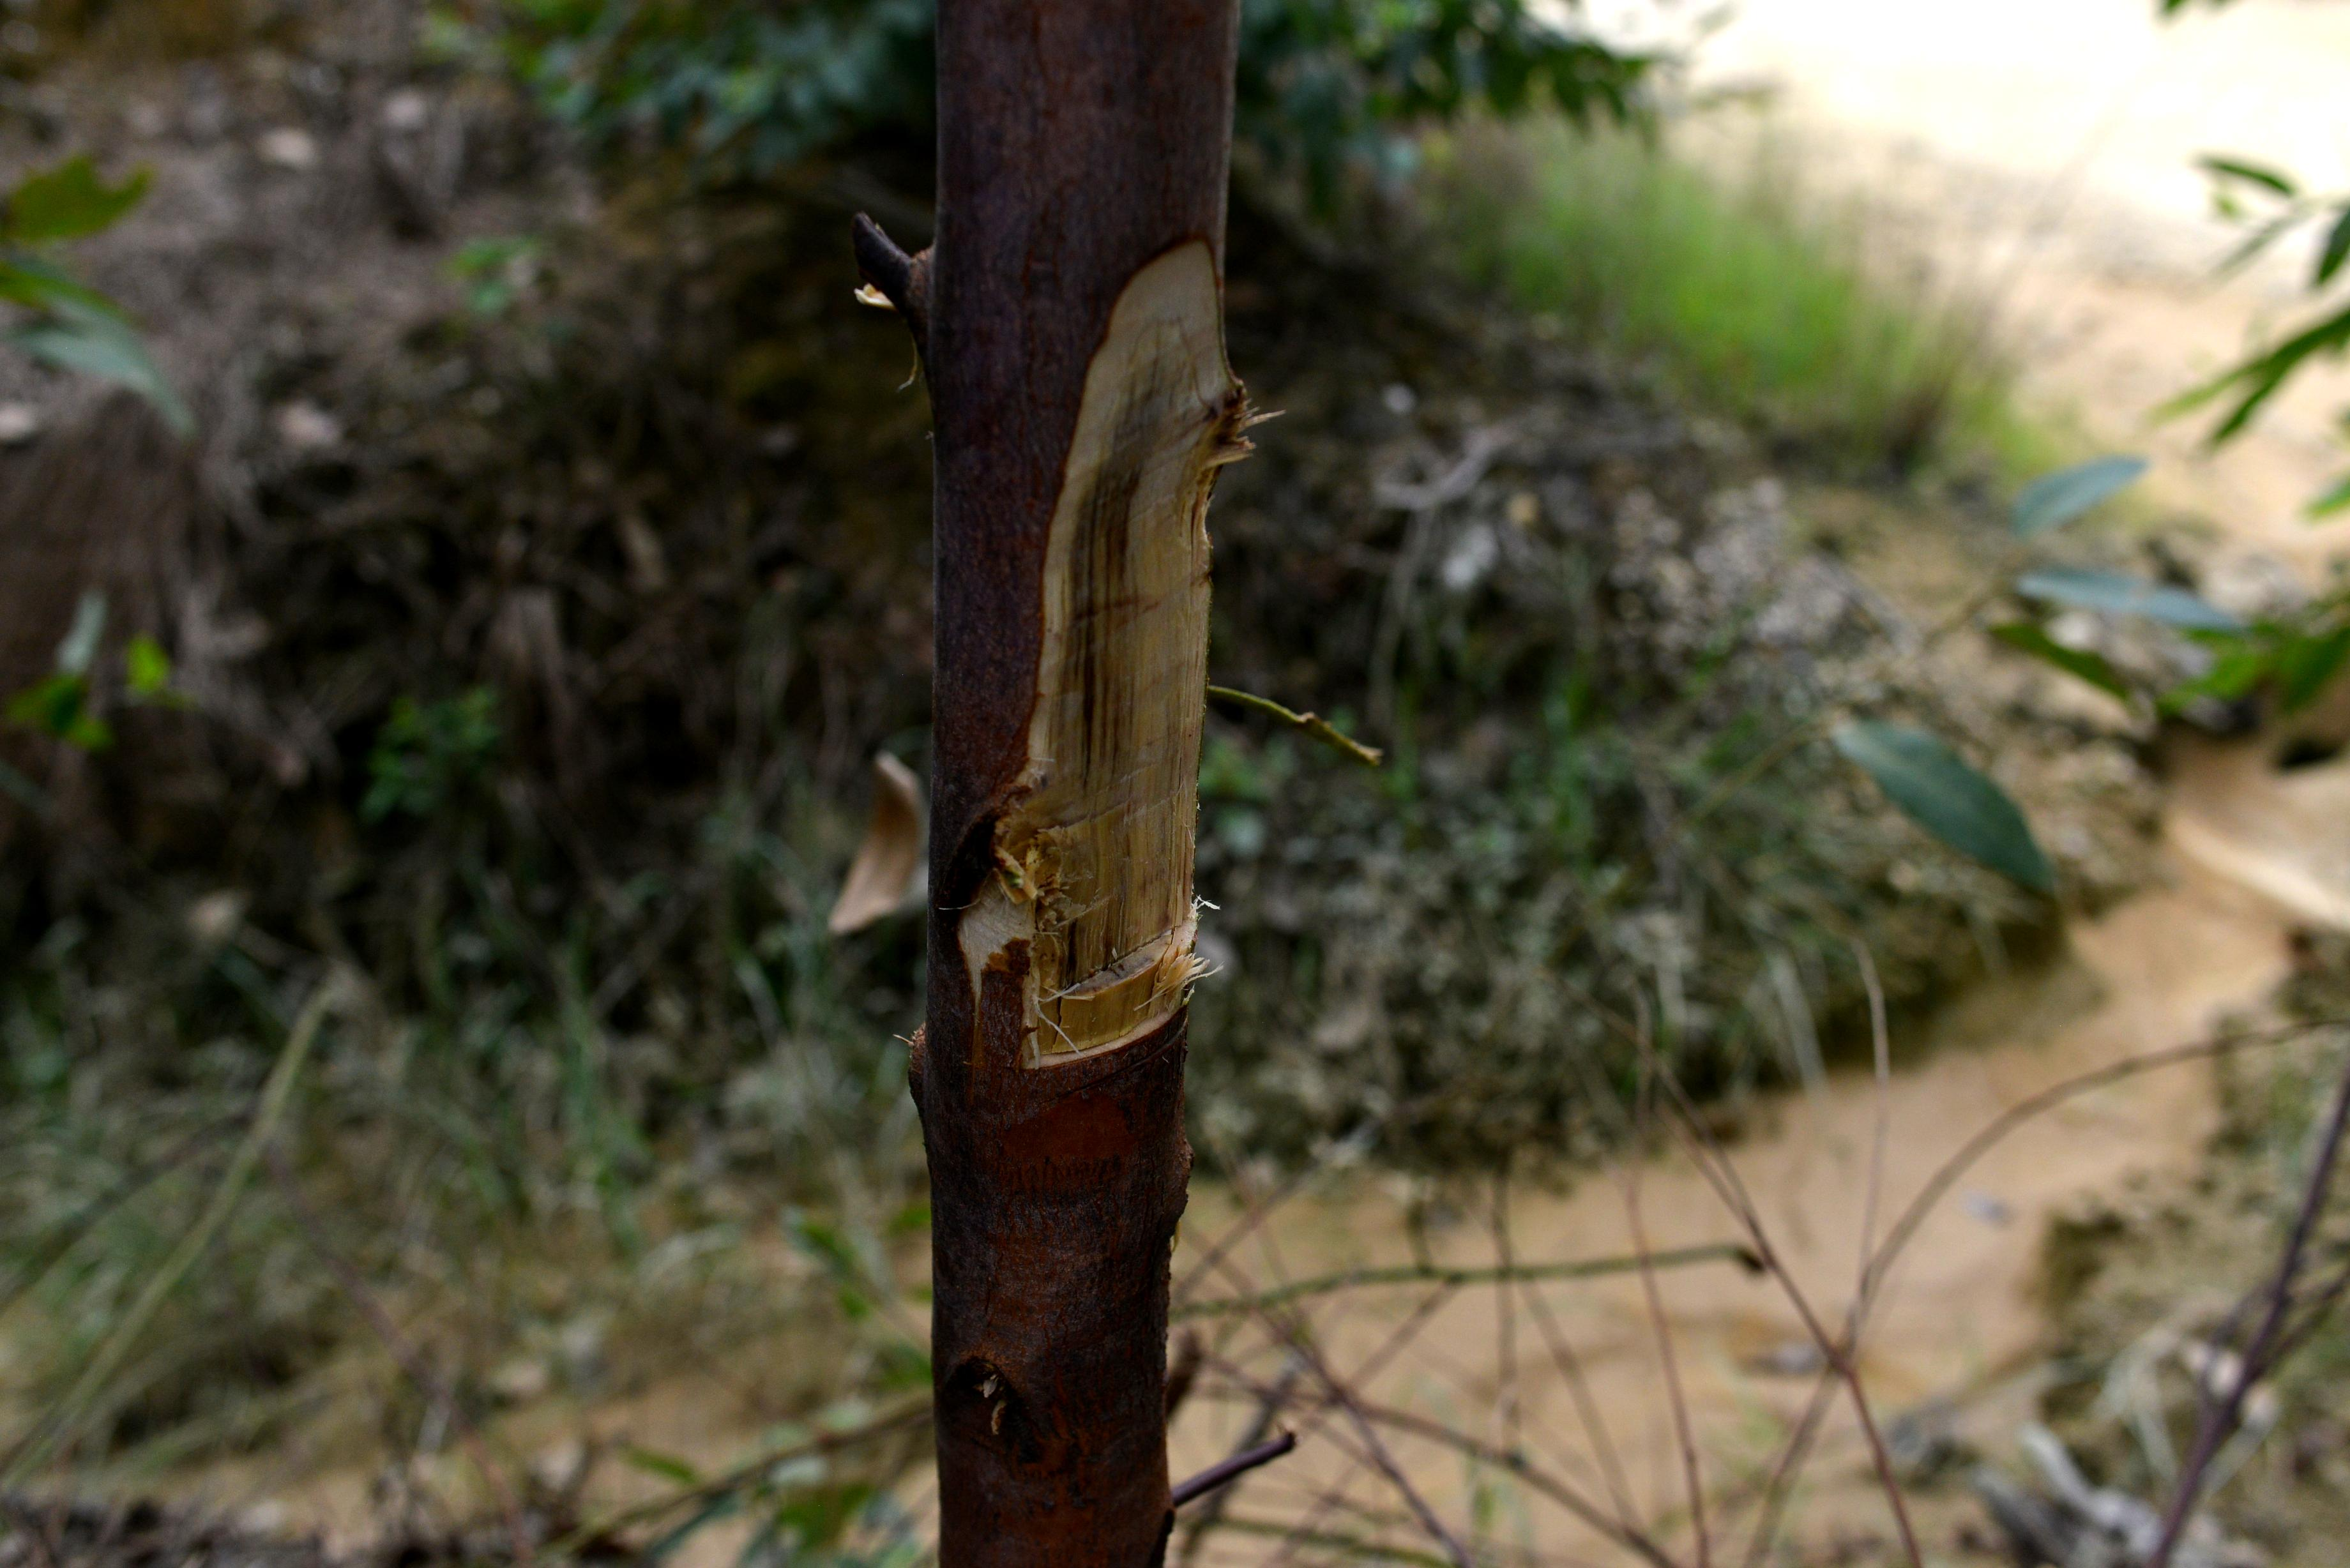Ralstonia: (978, 227, 1227, 1076)
